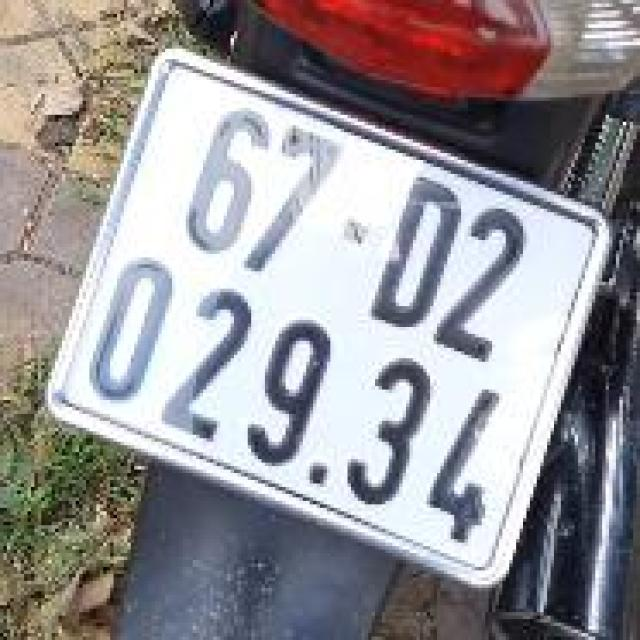0: (74, 243, 185, 417)
2: (150, 275, 273, 454), (424, 194, 542, 372)
3: (330, 344, 446, 525)
4: (411, 367, 527, 557)
6: (164, 94, 284, 271)
7: (231, 117, 353, 296)
9: (234, 302, 348, 482)
D: (353, 164, 472, 351)
